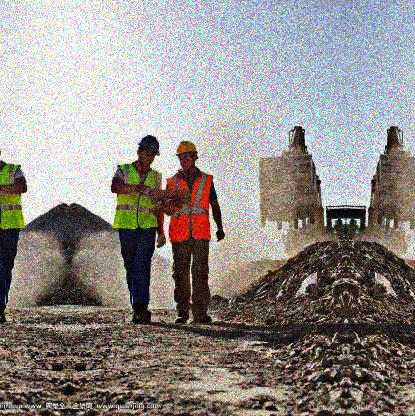helmet: (137, 135, 160, 170), (175, 141, 197, 172)
